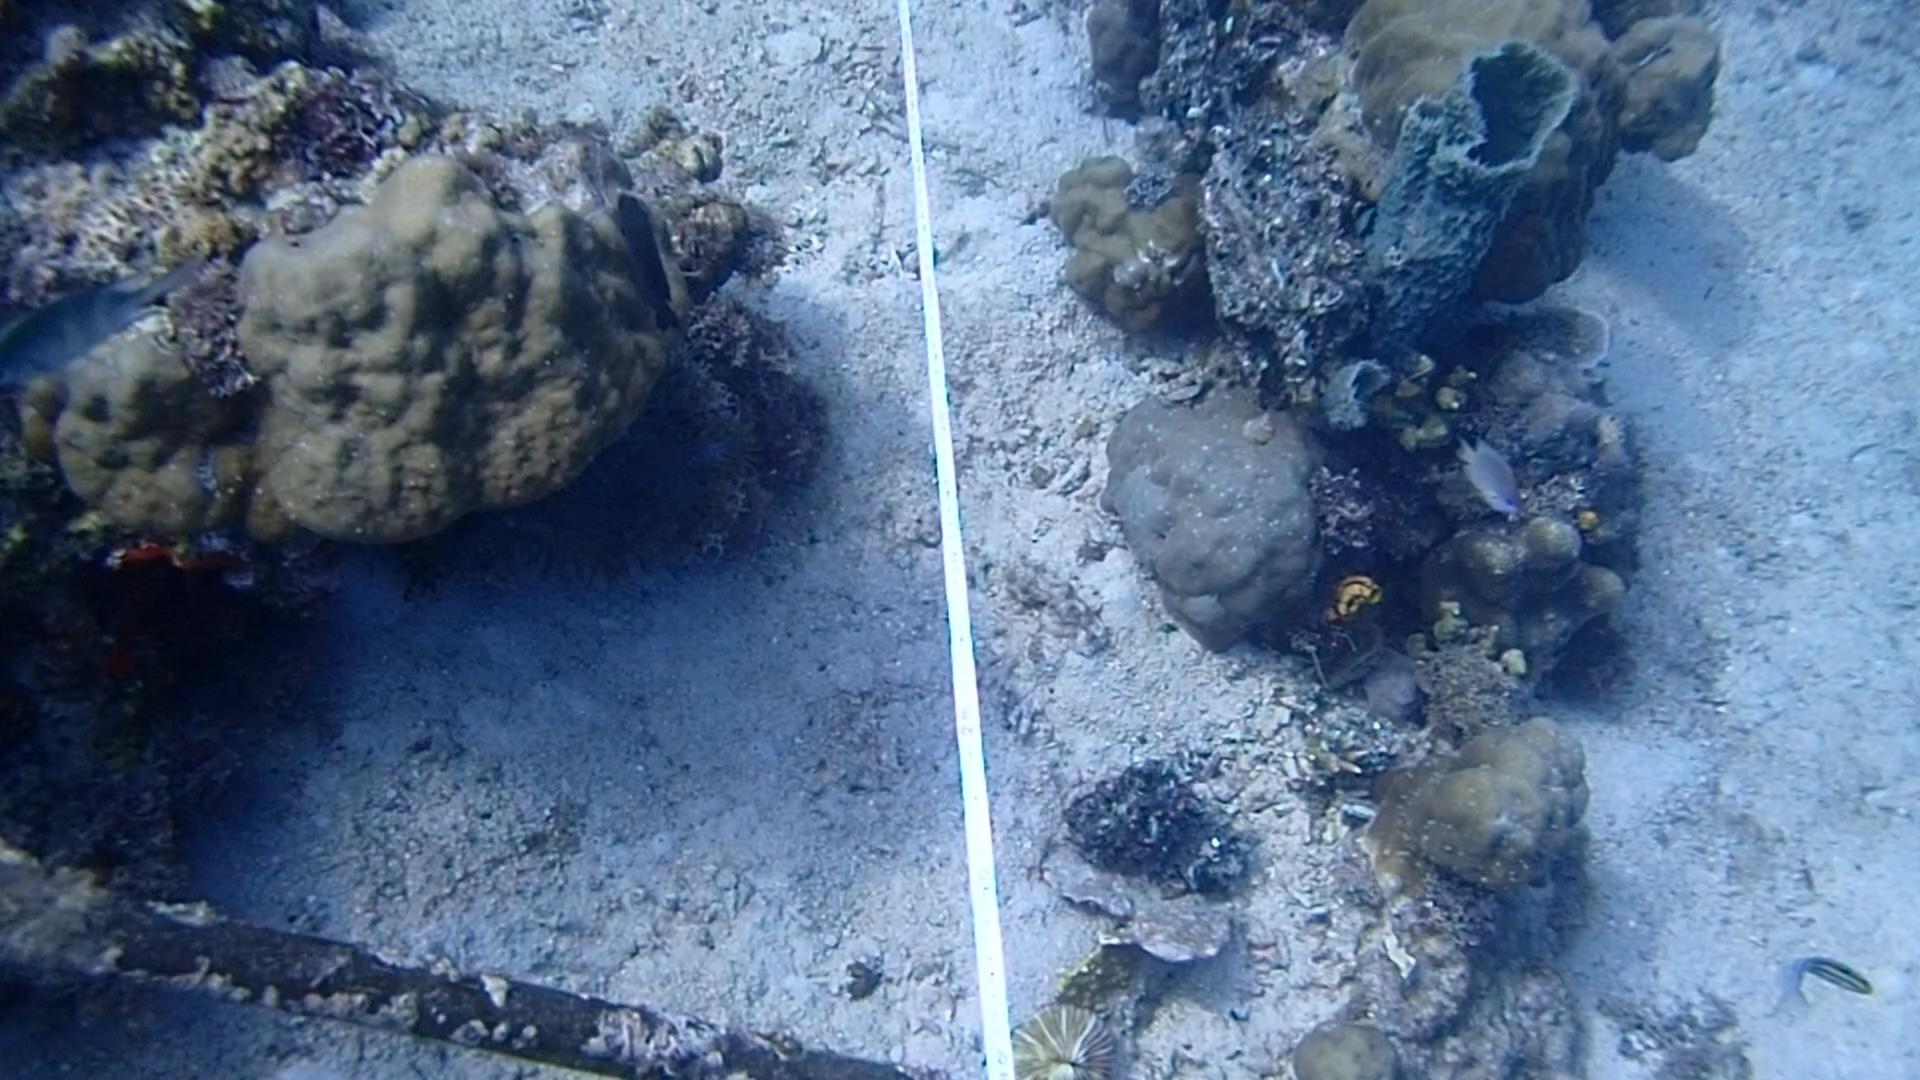Blue Fish: (0, 248, 179, 409)
Blue Nose Fish: (1449, 431, 1524, 514)
Dark Fish: (596, 178, 694, 318)
Striped Fish: (1770, 936, 1875, 1017)
